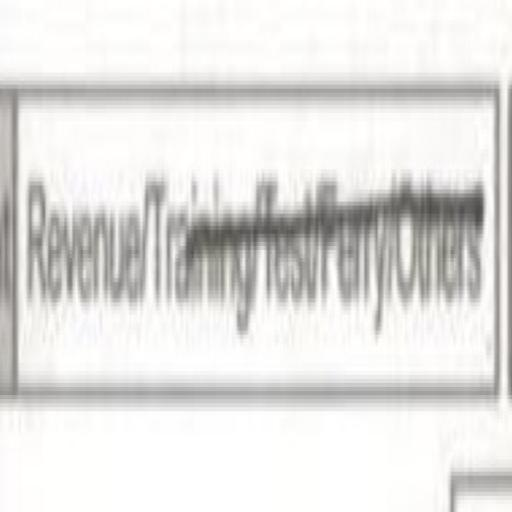check: (26, 75, 144, 491)
